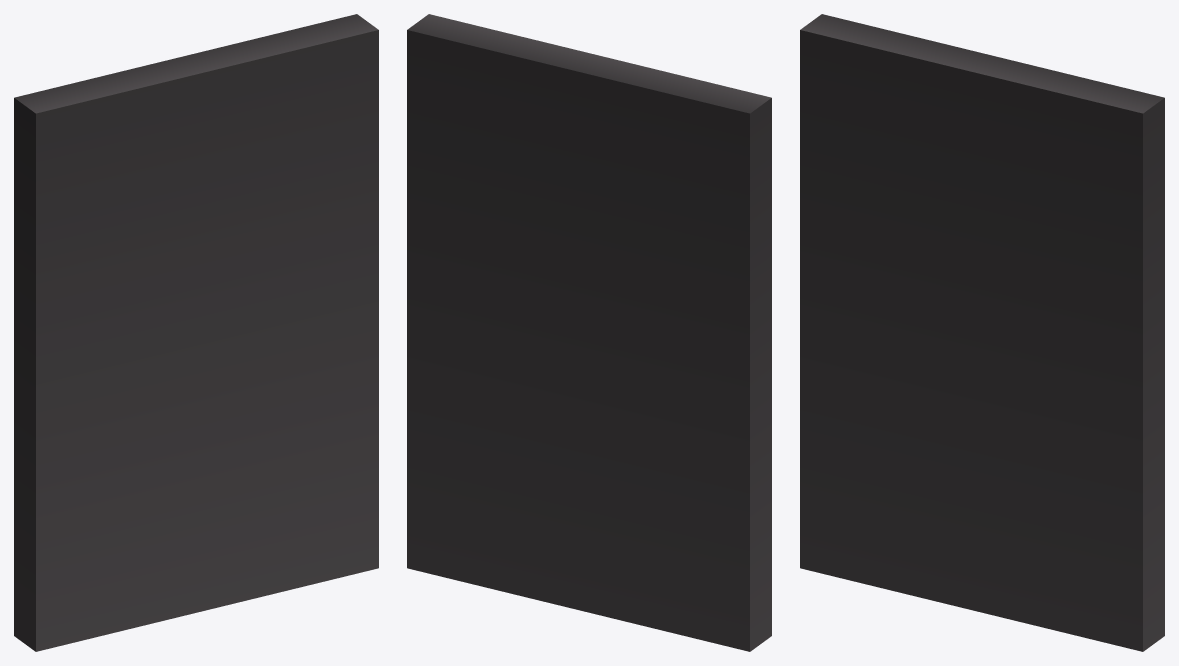
The model's file is KIT_Door_Iron_2.glb.
3 views of the same model, side by side, from view 1: azimuth 30°, elevation 25°; view 2: azimuth 150°, elevation 25°; view 3: azimuth 330°, elevation 25° (orthographic).
Parts seen in each view (by area): view 1: KIT_Door_Iron_2; view 2: KIT_Door_Iron_2; view 3: KIT_Door_Iron_2.
Part boxes in pixels (x1=…): KIT_Door_Iron_2: x1=14, y1=14, x2=378, y2=651; KIT_Door_Iron_2: x1=407, y1=14, x2=771, y2=651; KIT_Door_Iron_2: x1=800, y1=14, x2=1164, y2=651.
Bounding box in the file's own units: 2 × 3 × 0.22.
Materials: 1 (1 with a texture image).
